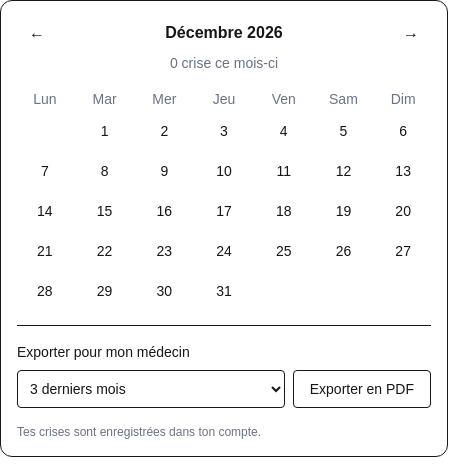
navigation › passe de décembre à janvier de l'année suivante
Check: the heading "Décembre 2026" is shown, box [165,21,283,45]
Click the button named "Mois suivant".
click(411, 33)  # box [391,17,431,49]
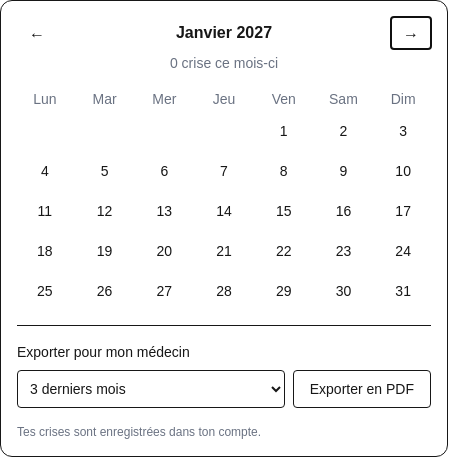
Check: the heading "Janvier 2027" is shown, box [176,21,272,45]
